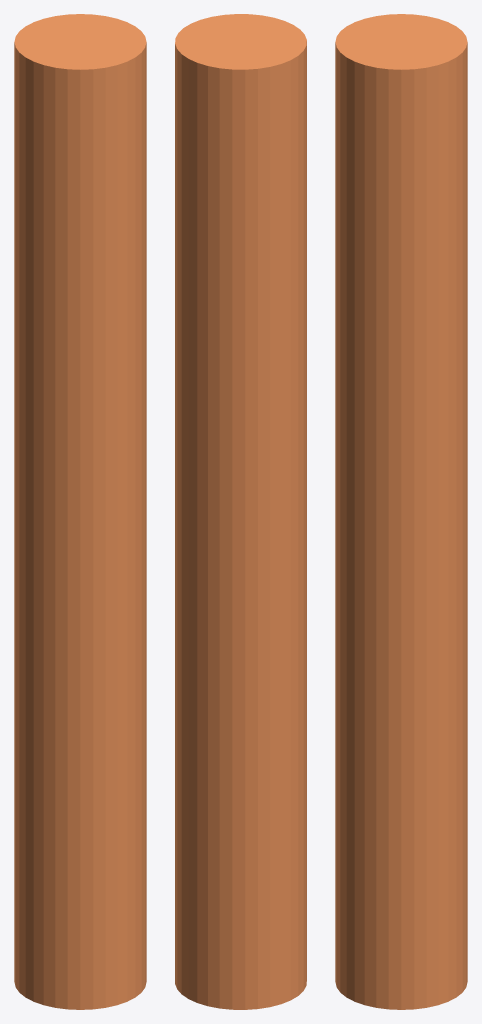
File: fin_bar.dae
3 views of the same model, side by side, from view 1: azimuth 90°, elevation 25°; view 2: azimuth 150°, elevation 25°; view 3: azimuth 270°, elevation 25° (orthographic).
Parts seen in each view (by area): view 1: fin_bar; view 2: fin_bar; view 3: fin_bar.
Part boxes in pixels (x1=…): fin_bar: x1=14, y1=14, x2=146, y2=1009; fin_bar: x1=175, y1=14, x2=306, y2=1009; fin_bar: x1=335, y1=14, x2=467, y2=1009.
Size of the model in its own units: 0.0202 by 0.0202 by 0.1586.
